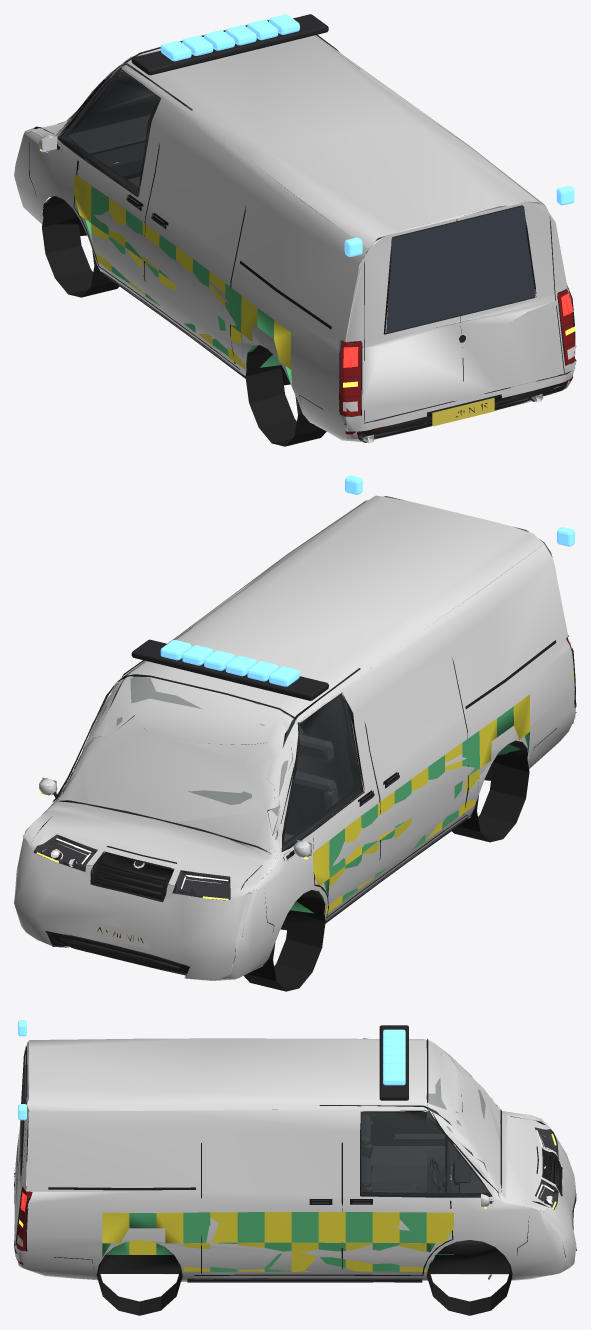
File: civ_ambulance_traffic.glb
3 renders of one model, top to bottom at view 1: azimuth 30°, elevation 25°; view 2: azimuth 150°, elevation 25°; view 3: azimuth 270°, elevation 25°, orthographic. The views are drawn at different scales.
Parts seen in each view (by area): view 1: civ_ambulance; view 2: civ_ambulance; view 3: civ_ambulance.
Part boxes in pixels (box(x1,y1,x2,y2)): civ_ambulance: box(14, 14, 576, 446); civ_ambulance: box(14, 475, 576, 991); civ_ambulance: box(14, 1020, 576, 1315).
Bounding box in the file's own units: 2.25 × 2.12 × 5.
